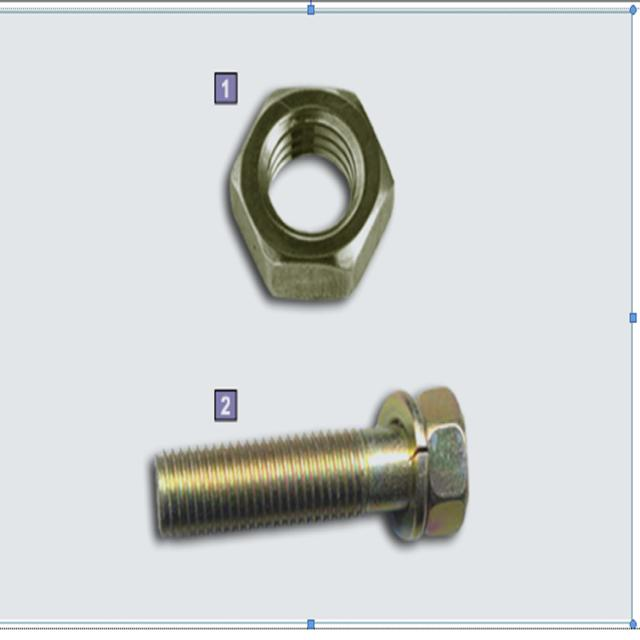Logam: (85, 352, 518, 568), (185, 66, 388, 286)
